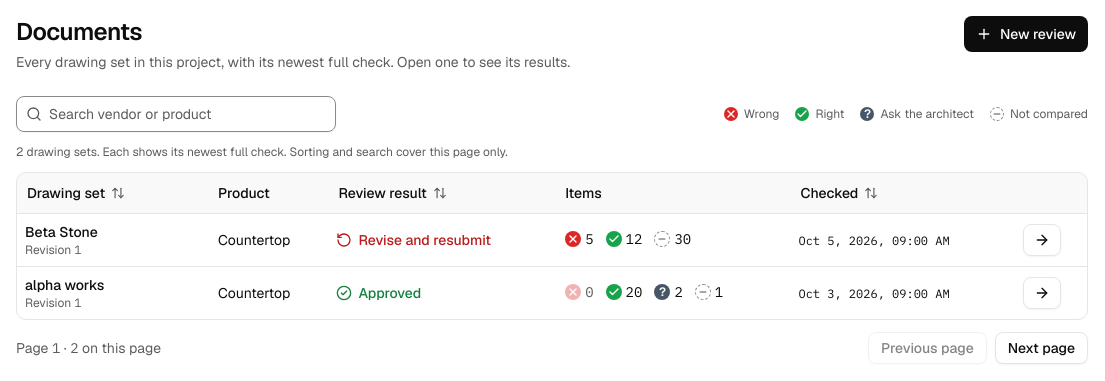
PackagesPage › pages by the server cursor when there are more reviews
Expected: the text "Sorting and search cover this page only" is shown, [286,144,508,160]
Click the button "Next page" at point(1041, 348), box [995,332,1088,364]
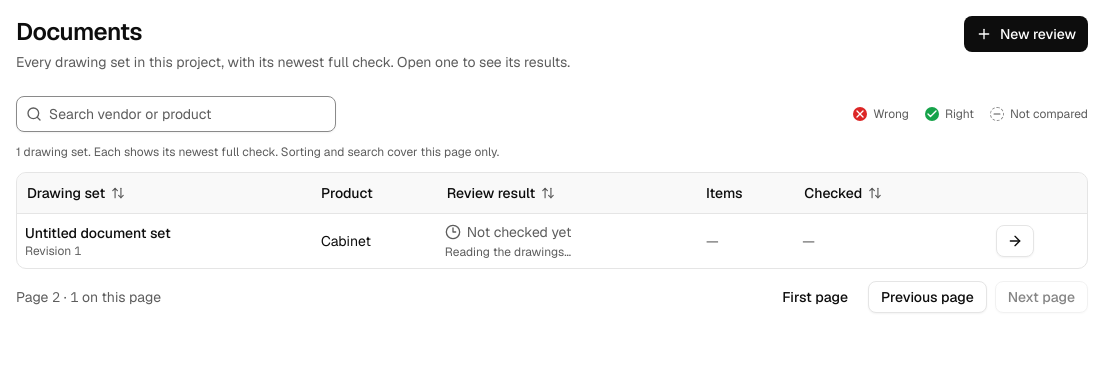
Result: the text "Page 2 · 1 on this page" is shown at [16,286,161,306]
